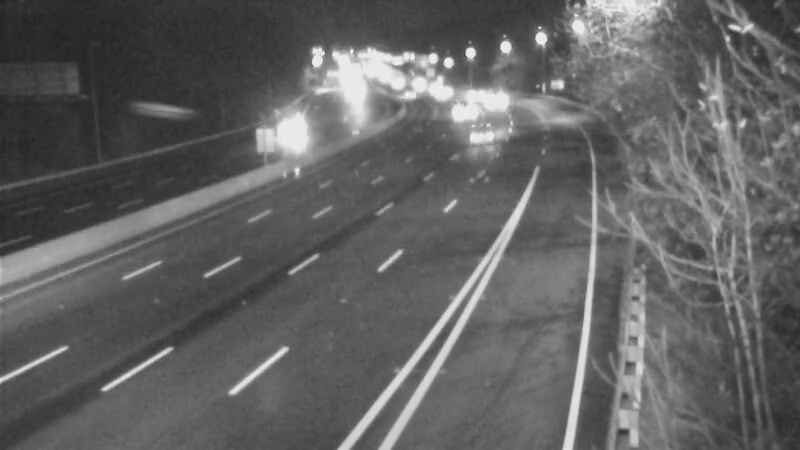vehicle: (417, 66, 467, 116), (385, 71, 435, 121), (446, 70, 496, 120), (469, 73, 519, 123), (434, 85, 484, 135), (454, 112, 504, 162), (270, 108, 320, 158)
